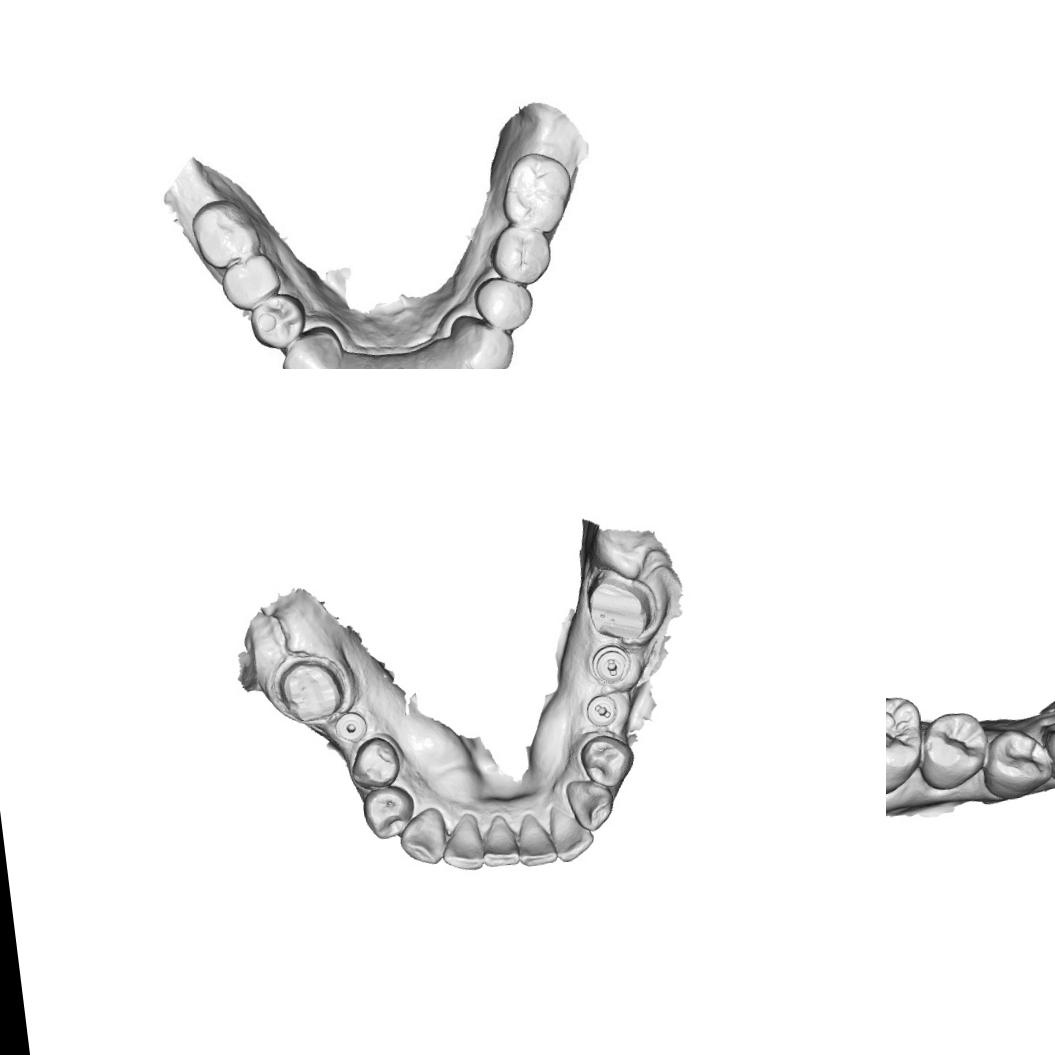canine: (395, 805, 450, 872), (560, 773, 618, 835), (454, 313, 514, 369), (280, 326, 341, 369), (1041, 713, 1055, 779)
crown: (582, 566, 662, 648), (271, 652, 348, 729)
implant: (331, 708, 371, 745)
implant_minus: (590, 644, 634, 686), (583, 692, 624, 732)
incisor: (543, 802, 597, 866), (438, 810, 490, 875), (476, 812, 524, 872), (512, 808, 558, 870), (427, 344, 477, 369), (317, 351, 366, 369), (354, 352, 405, 369), (391, 350, 436, 369)
molar: (502, 150, 572, 230), (886, 680, 929, 803), (188, 194, 260, 267)
premolar: (913, 706, 996, 796), (979, 721, 1055, 802), (492, 219, 556, 282), (576, 729, 639, 792), (344, 733, 404, 793), (359, 784, 419, 844), (247, 292, 304, 348), (221, 254, 281, 307), (476, 273, 531, 328)
